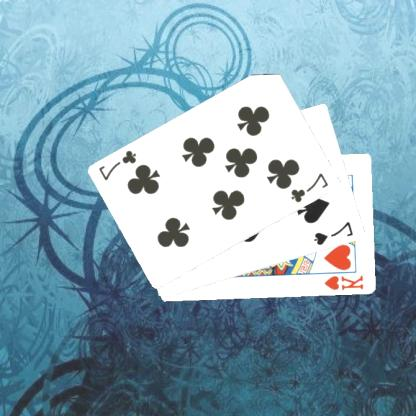7C: (98, 147, 140, 182), (290, 170, 332, 204)
7S: (313, 219, 357, 247)
KH: (323, 272, 367, 292)
